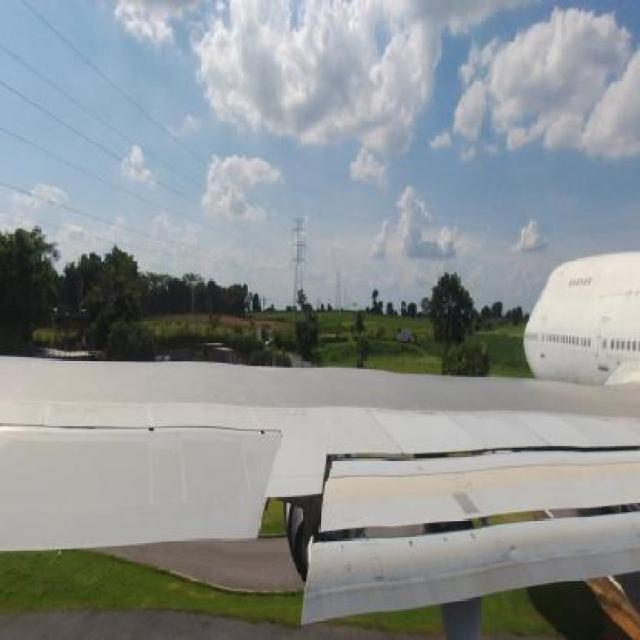Rust: (618, 278, 640, 305)
Scartch: (414, 406, 446, 422)
